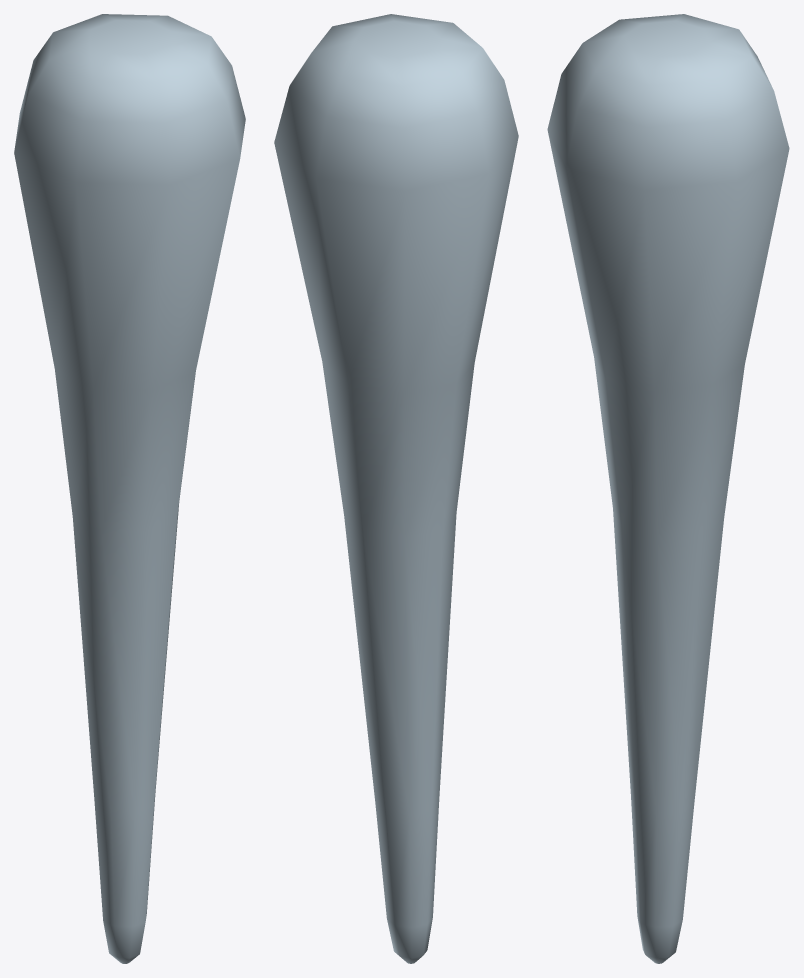
Rendered from icycles.fbx.
3 views of the same model, side by side, from view 1: azimuth 30°, elevation 25°; view 2: azimuth 150°, elevation 25°; view 3: azimuth 270°, elevation 25° (orthographic).
Parts seen in each view (by area): view 1: icycles; view 2: icycles; view 3: icycles.
Part boxes in pixels (x1=…): icycles: x1=14, y1=14, x2=245, y2=963; icycles: x1=274, y1=14, x2=518, y2=963; icycles: x1=547, y1=14, x2=789, y2=963.
Size of the model in its own units: 8.72 by 36.78 by 8.7.
